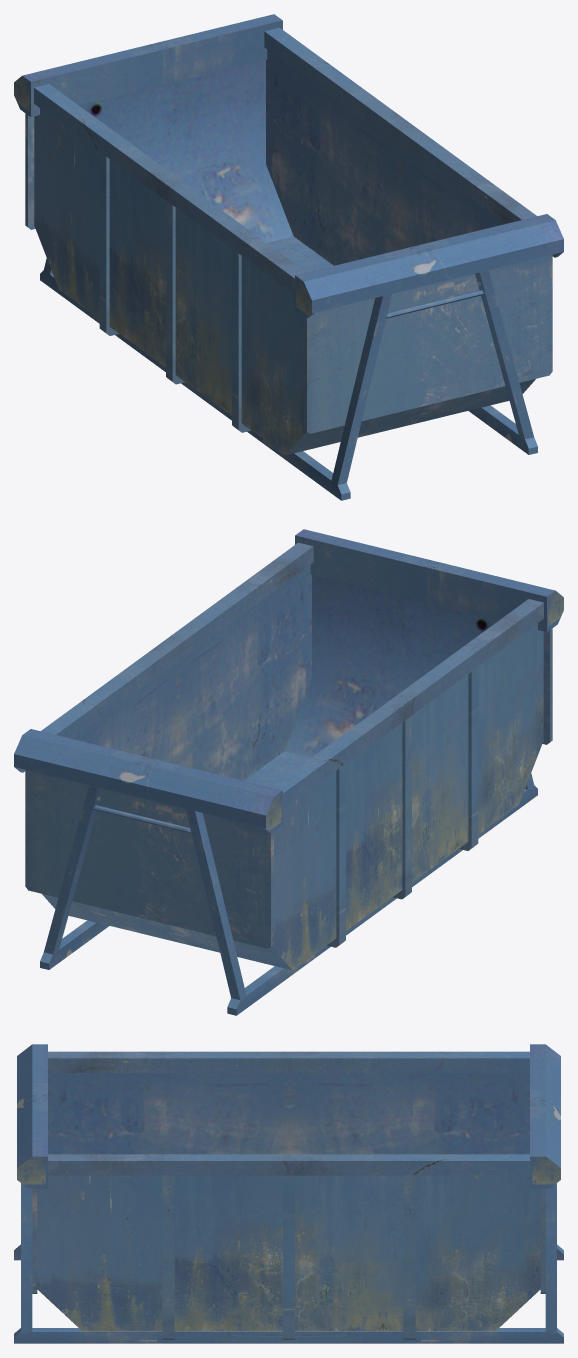
The model's file is Dumpster04.FBX.
The picture shows the model from 3 angles, top to bottom: view 1: azimuth 30°, elevation 25°; view 2: azimuth 150°, elevation 25°; view 3: azimuth 270°, elevation 25°; orthographic projection. The views are drawn at different scales.
Parts seen in each view (by area): view 1: Dumpster04; view 2: Dumpster04; view 3: Dumpster04.
Part boxes in pixels (x1,y1,x2,y2): Dumpster04: (14,14,563,500); Dumpster04: (14,529,563,1015); Dumpster04: (14,1044,563,1343).
Size of the model in its own units: 2104 by 1744 by 4359.
